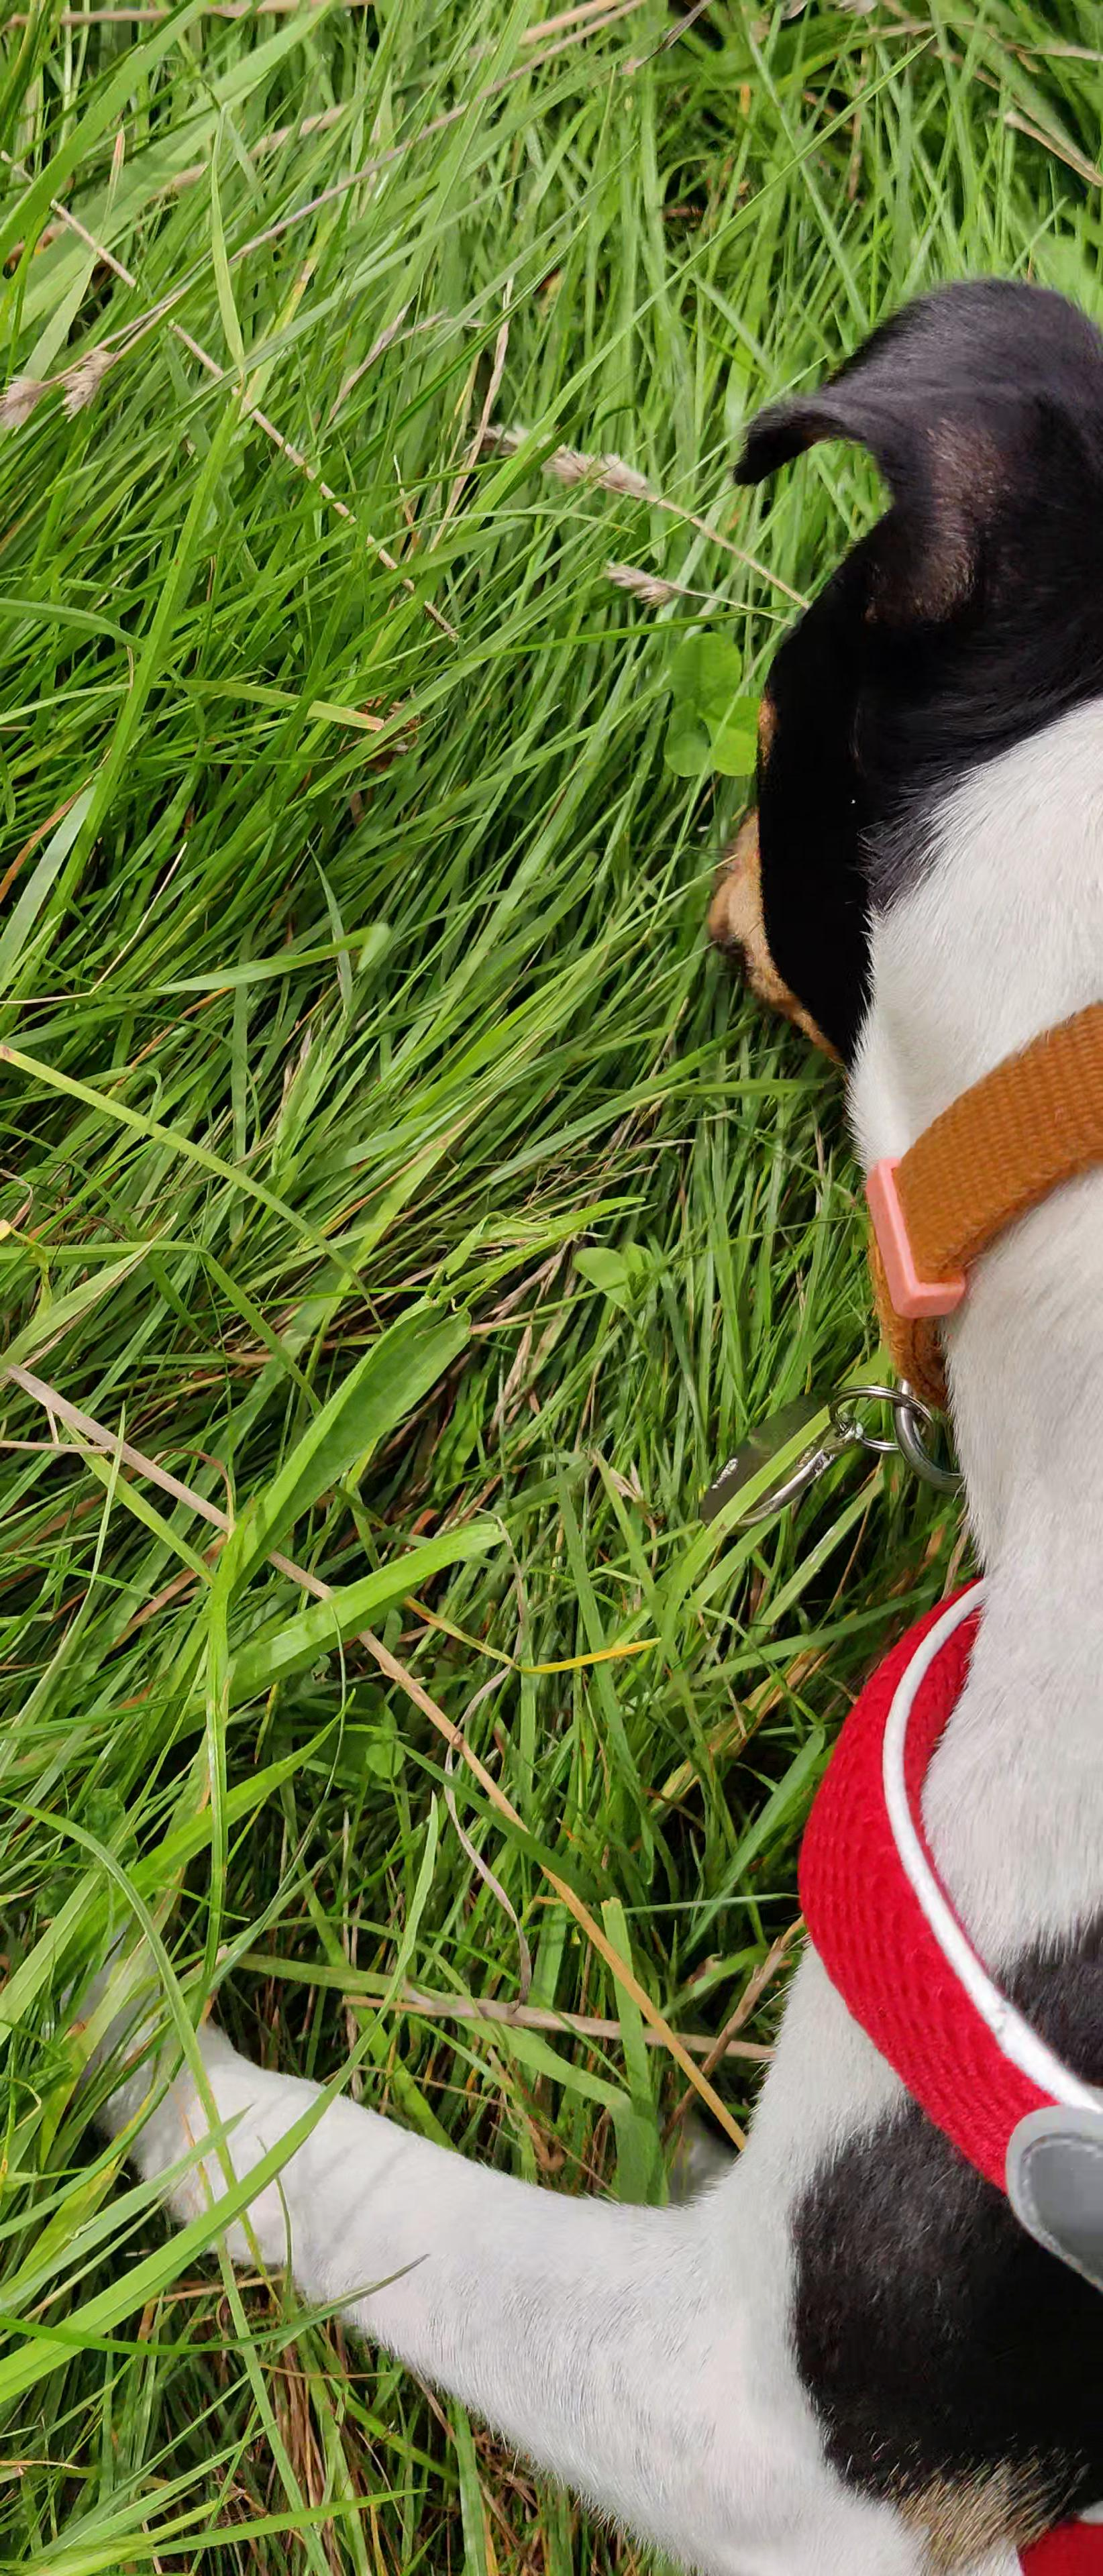Dog: (59, 243, 1103, 2576)
